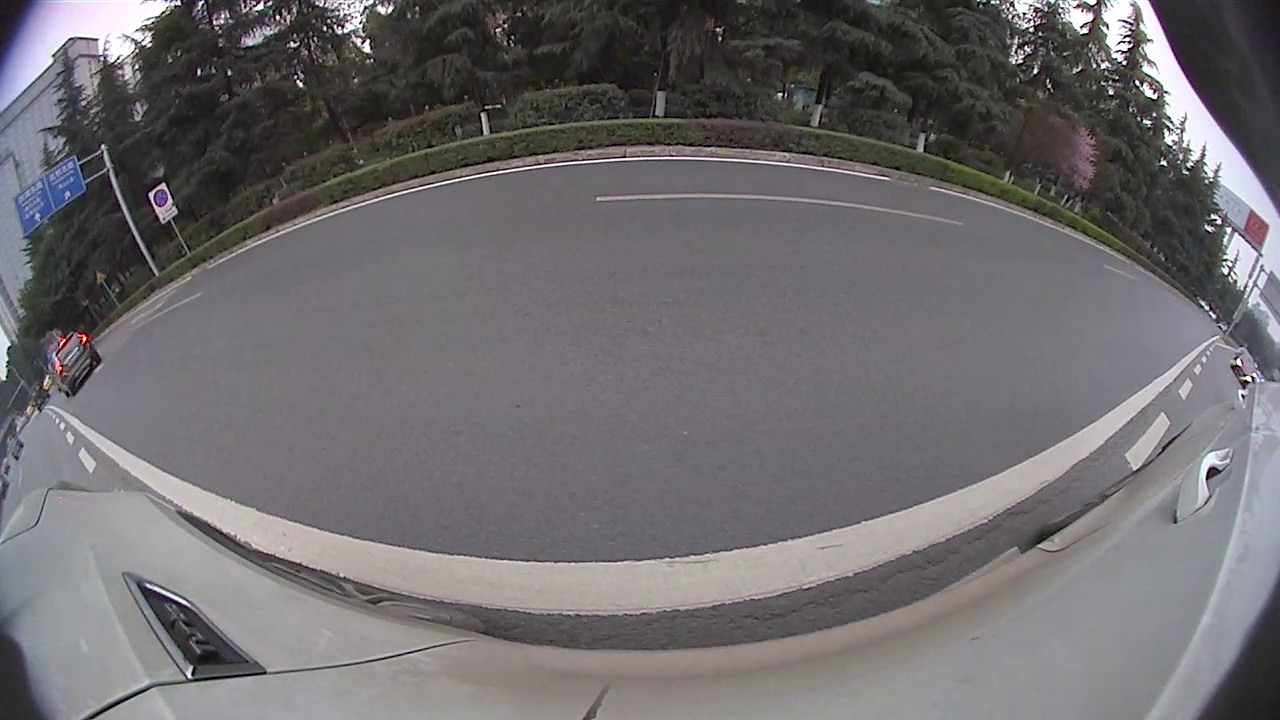car: (47, 330, 103, 399), (1230, 351, 1258, 387)
